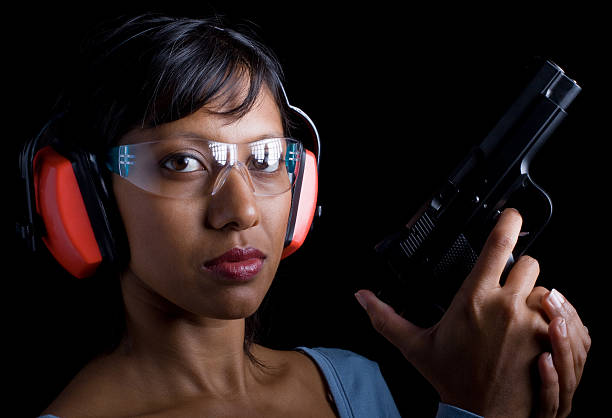gun: (361, 58, 583, 330)
